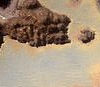Corrosion: (1, 1, 72, 49), (77, 29, 96, 44)
